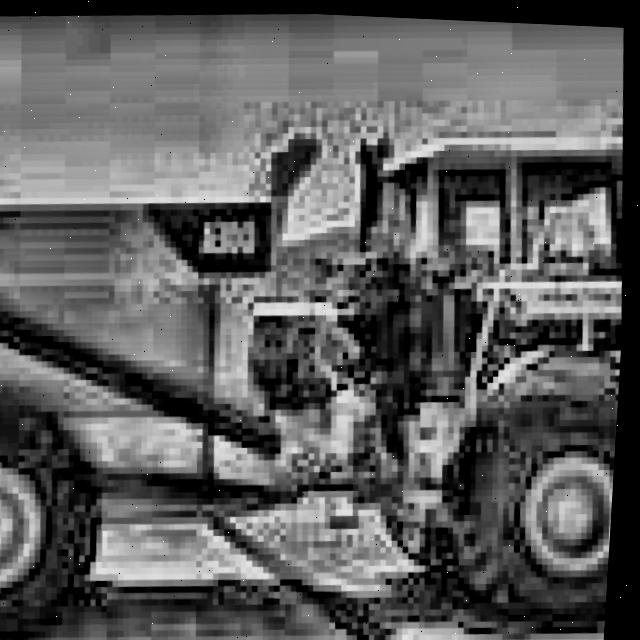dump_truck: (0, 65, 637, 640)
